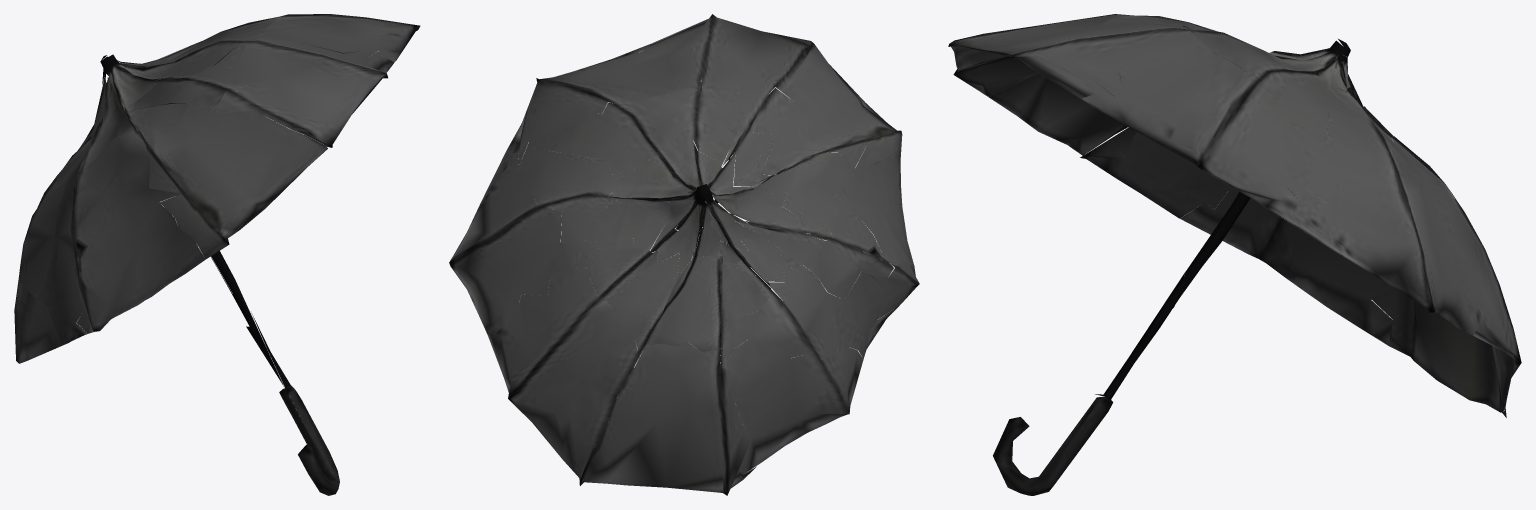
Rendered from umbrella_open.glb.
The picture shows the model from 3 angles, left to right: view 1: azimuth 30°, elevation 25°; view 2: azimuth 150°, elevation 25°; view 3: azimuth 270°, elevation 25°; orthographic projection. The views are drawn at different scales.
Visible parts, largest first — view 1: tripo_node_8b81e42d-4f36-41d5-912a-63dde2a2c2c4; view 2: tripo_node_8b81e42d-4f36-41d5-912a-63dde2a2c2c4; view 3: tripo_node_8b81e42d-4f36-41d5-912a-63dde2a2c2c4.
Boxes of the visible parts, <box> form: tripo_node_8b81e42d-4f36-41d5-912a-63dde2a2c2c4: <box>14,14,420,495</box>; tripo_node_8b81e42d-4f36-41d5-912a-63dde2a2c2c4: <box>449,14,919,495</box>; tripo_node_8b81e42d-4f36-41d5-912a-63dde2a2c2c4: <box>948,14,1521,495</box>.
Size of the model in its own units: 0.961 by 0.9986 by 1.11.
1 material, 1 textured.
